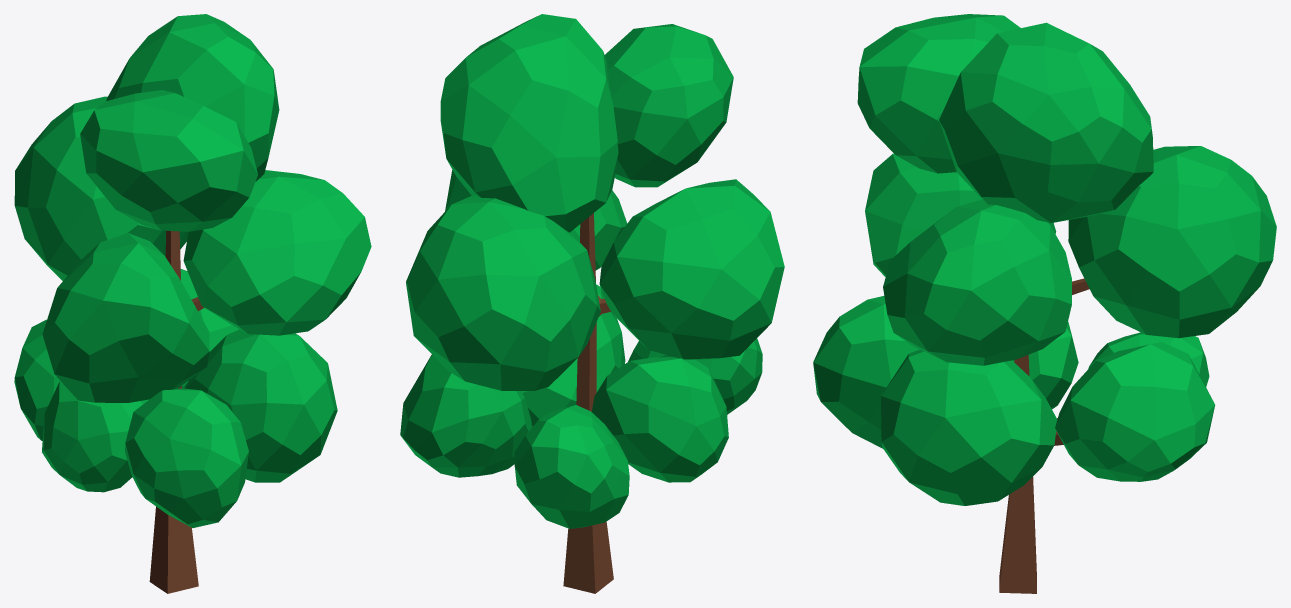
Rendered from Apple.fbx.
3 views of the same model, side by side, from view 1: azimuth 30°, elevation 25°; view 2: azimuth 150°, elevation 25°; view 3: azimuth 270°, elevation 25° (orthographic). The views are drawn at different scales.
Parts seen in each view (by area): view 1: Apple.002; view 2: Apple.002; view 3: Apple.002.
Part boxes in pixels (<box>): Apple.002: <box>14,14,371,593</box>; Apple.002: <box>400,14,784,593</box>; Apple.002: <box>813,14,1276,593</box>.
Size of the model in its own units: 913 by 1549 by 1147.
